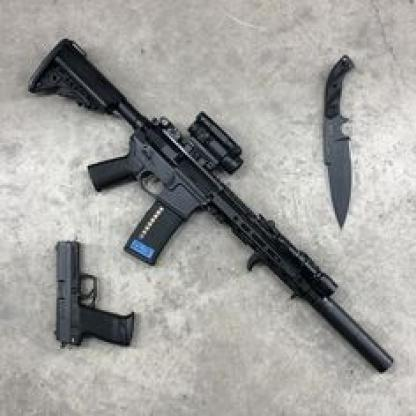Gun: (27, 38, 395, 376)
Knife: (323, 53, 354, 234)
Pistol: (54, 237, 136, 351)
